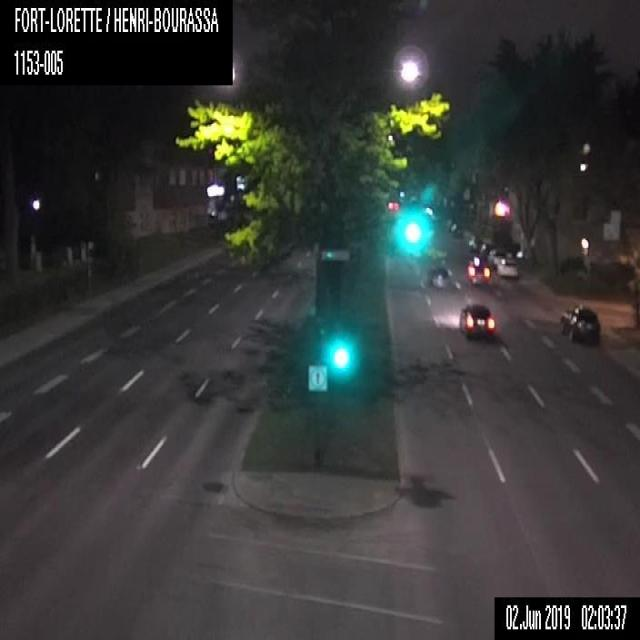vehicle: (557, 302, 602, 346), (458, 301, 496, 340), (466, 255, 490, 286), (428, 263, 453, 289), (496, 256, 519, 276), (441, 217, 462, 236), (487, 247, 505, 267), (468, 235, 482, 252), (479, 242, 492, 257)
